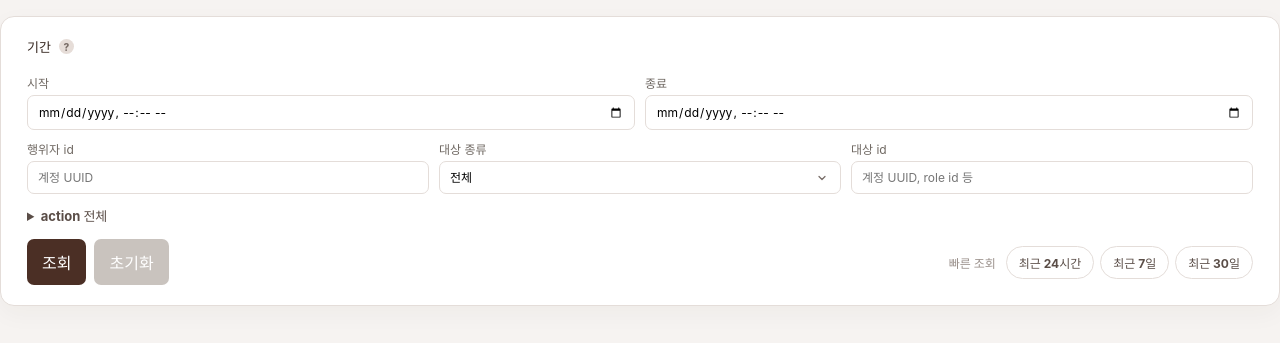
AuditFilters › 빠른 조회도 행위자 id가 UUID가 아니면 요청하지 않고 안내한다
In the field labelled "행위자 id": [228, 178] box [27,161,429,194], type "not-a-uuid"
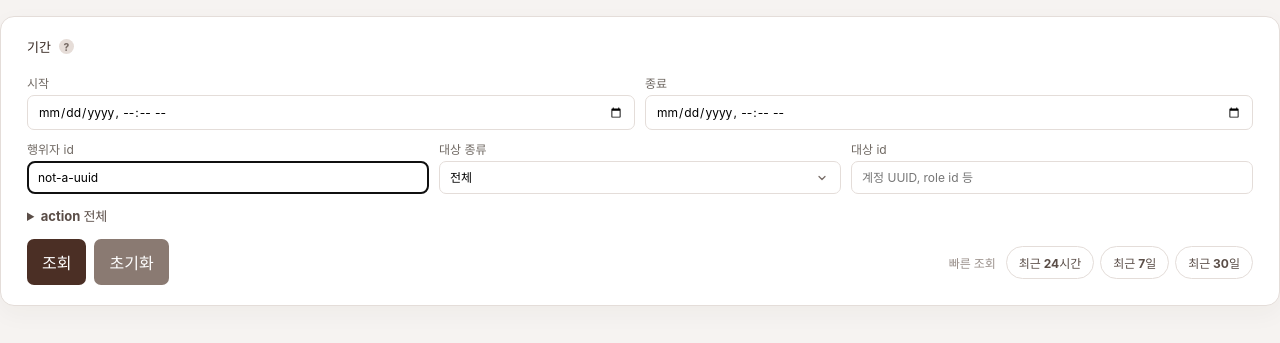
Click the button "최근 7일": [1135, 262] box [1100,246,1169,278]
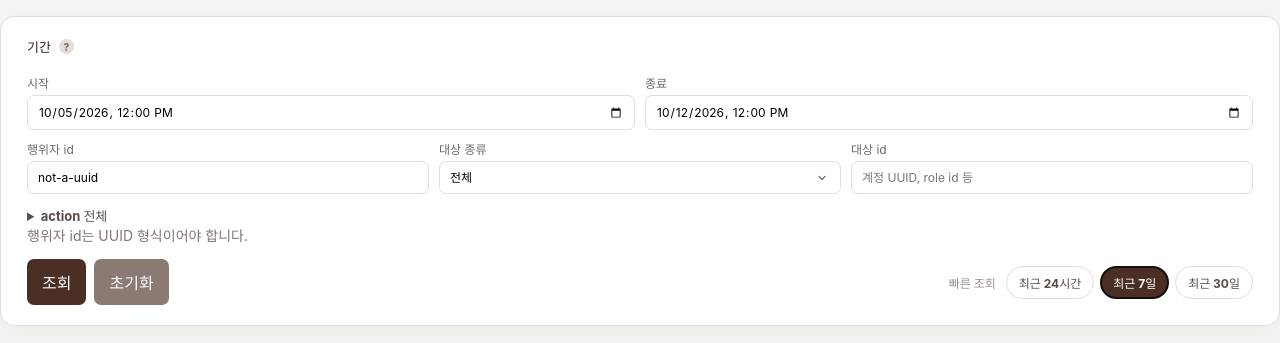
Check: the message reads "행위자 id는 UUID 형식이어야 합니다.", box [27,227,248,244]
